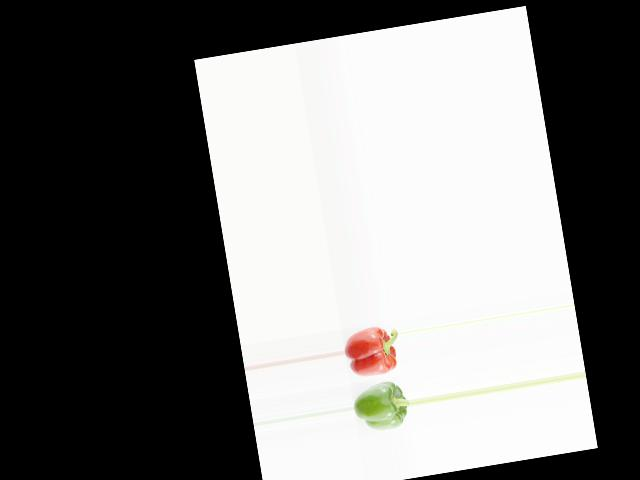bell_pepper: (352, 376, 412, 435)
